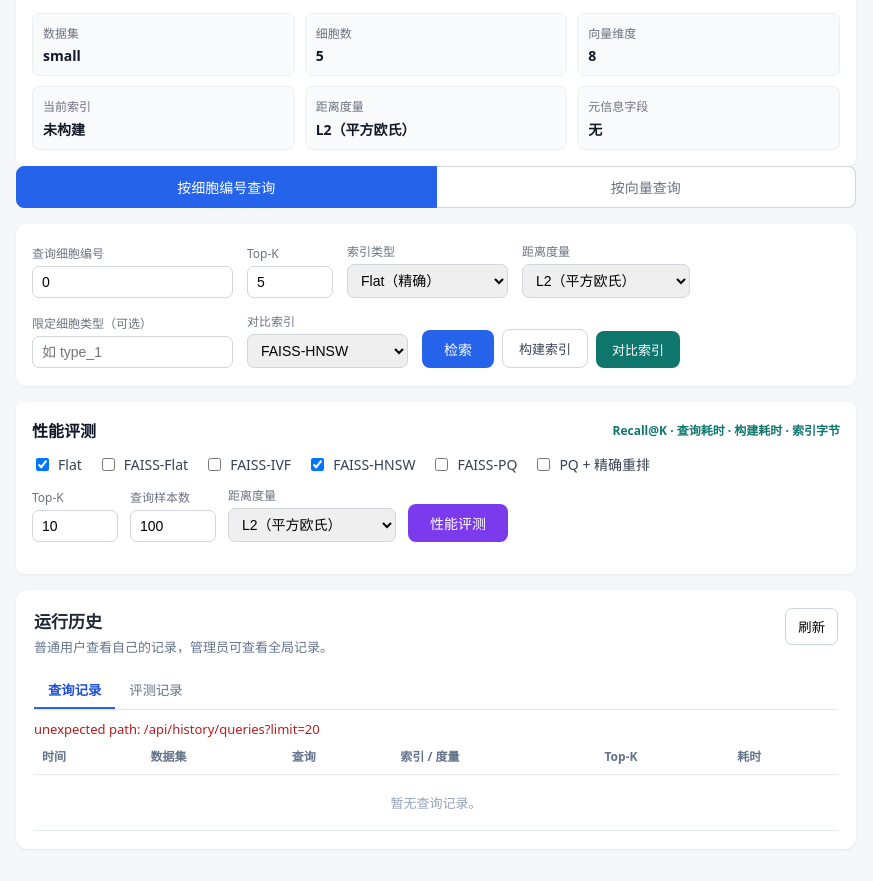
it: App authentication gate › labels evaluation recall with the backend effective K
The image size is (873, 881).
(page scrolled)
Click the button with class "btn-eval" at [458, 523], box [408,504,508,542]
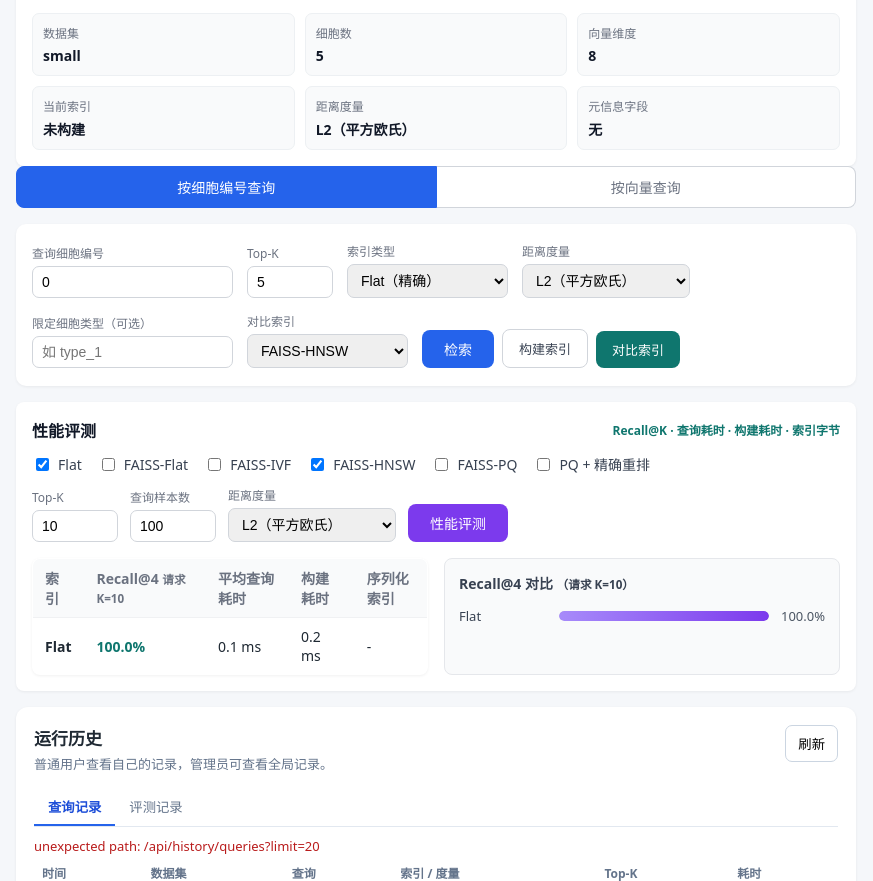
Expected: the text "Recall@4" is shown, [96,569,162,588]
Expected: the text "请求 K=10" is shown, [96,572,186,606]
